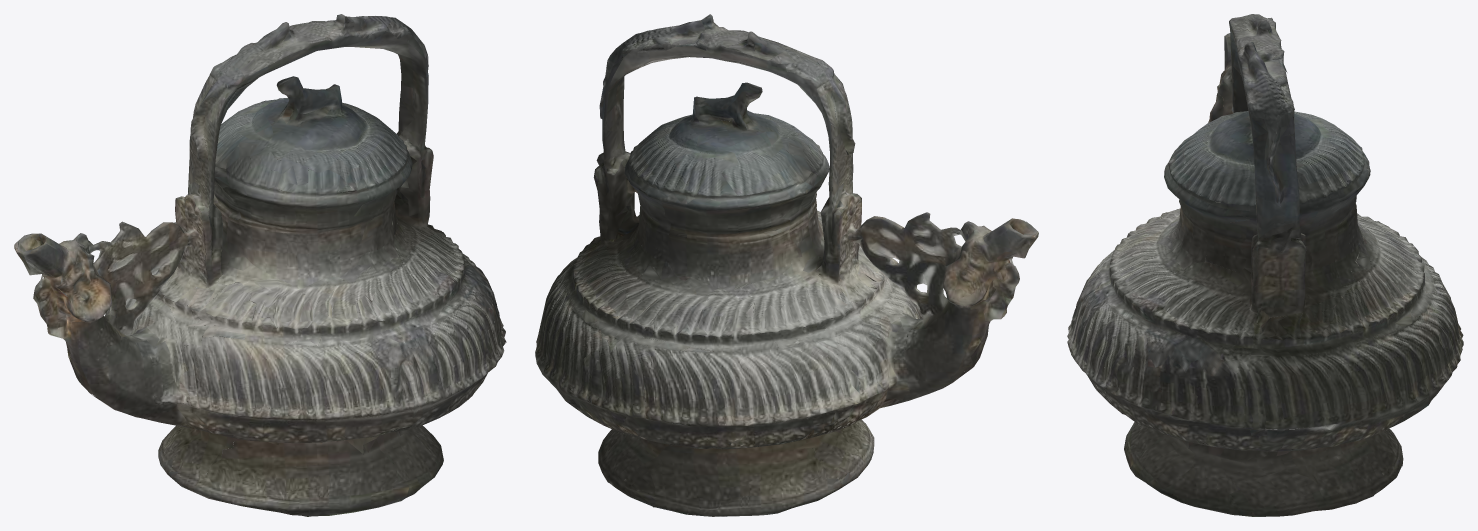
File: kettle.glb
3 renders of one model, left to right at view 1: azimuth 30°, elevation 25°; view 2: azimuth 150°, elevation 25°; view 3: azimuth 270°, elevation 25°, orthographic. The views are drawn at different scales.
Visible parts, largest first — view 1: Stereo textured mesh_Material0.001_0; view 2: Stereo textured mesh_Material0.001_0; view 3: Stereo textured mesh_Material0.001_0.
Boxes of the visible parts, bbox=[...] form: Stereo textured mesh_Material0.001_0: bbox=[14, 14, 506, 516]; Stereo textured mesh_Material0.001_0: bbox=[535, 14, 1038, 516]; Stereo textured mesh_Material0.001_0: bbox=[1067, 14, 1463, 516].
Size of the model in its own units: 0.5839 by 0.5256 by 0.4331.
1 material, 1 textured.
